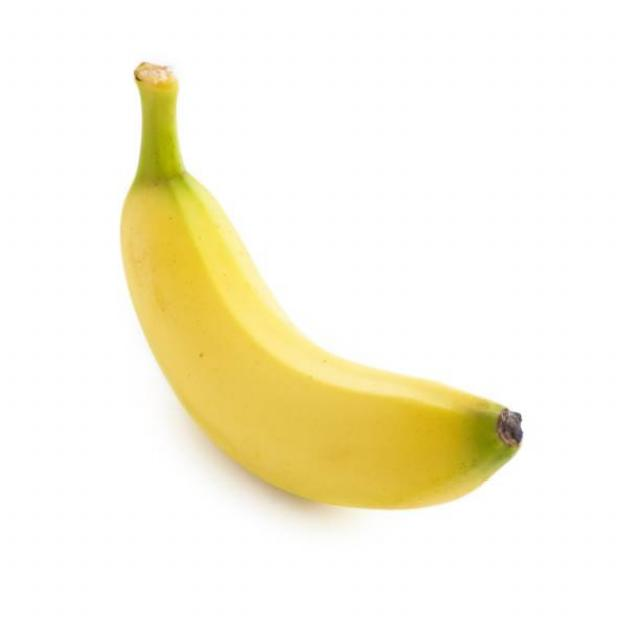Banana: (88, 37, 570, 572)
